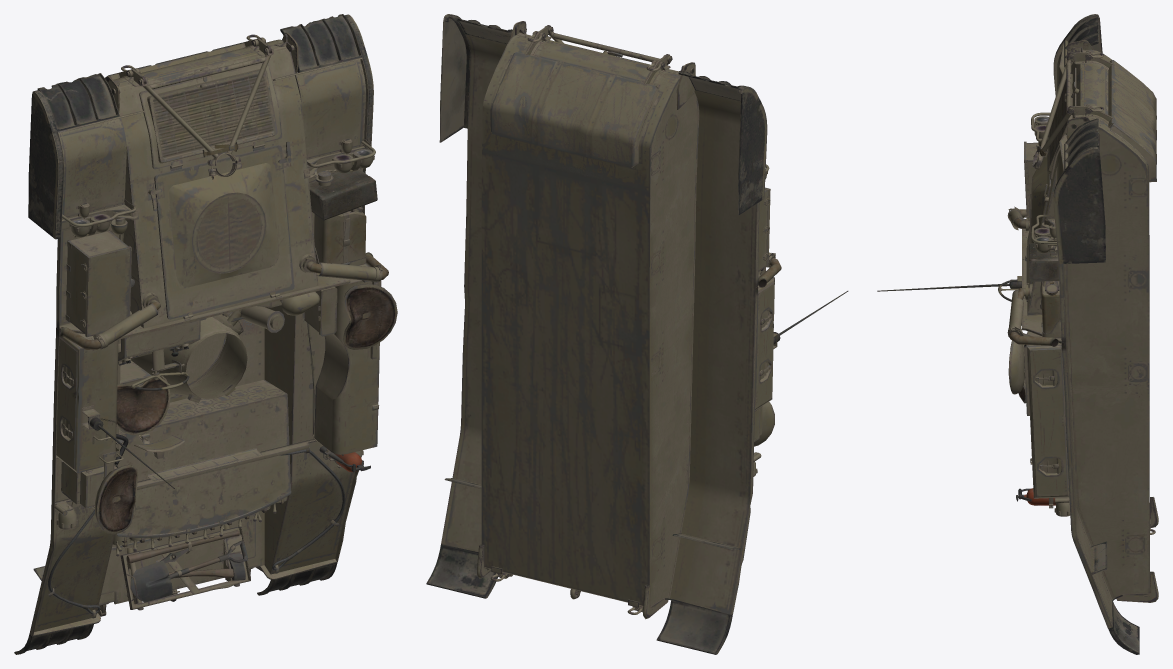
The model's file is Hull.glb.
3 views of the same model, side by side, from view 1: azimuth 30°, elevation 25°; view 2: azimuth 150°, elevation 25°; view 3: azimuth 270°, elevation 25° (orthographic). The views are drawn at different scales.
Visible parts, largest first — view 1: set_0_group_0; view 2: set_0_group_0; view 3: set_0_group_0.
Boxes of the visible parts, left/top/right/bottom form: set_0_group_0: left=14, top=14, right=397, bottom=654; set_0_group_0: left=426, top=14, right=848, bottom=654; set_0_group_0: left=877, top=14, right=1158, bottom=654.
Bounding box in the file's own units: 2.58 × 4.56 × 2.28.
1 material, 1 textured.
